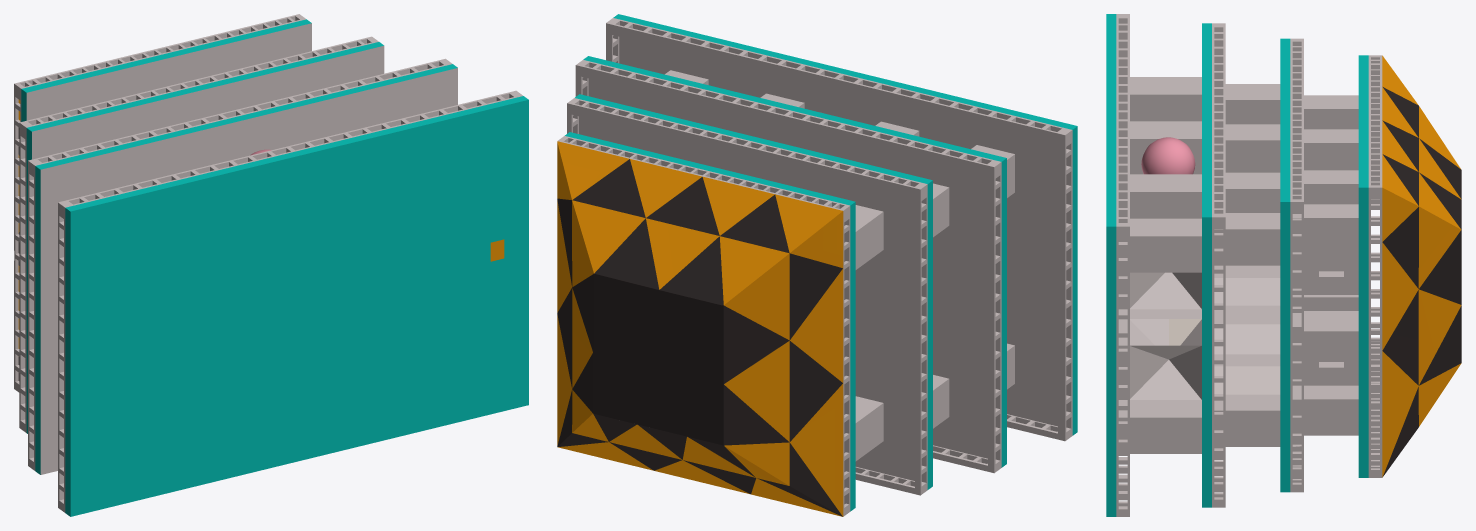
The model's file is orangeTemple.fbx.
The picture shows the model from 3 angles, left to right: view 1: azimuth 30°, elevation 25°; view 2: azimuth 150°, elevation 25°; view 3: azimuth 270°, elevation 25°; orthographic projection. The views are drawn at different scales.
Visible parts, largest first — view 1: TwentysevenThirtyone_orangeTemple; view 2: TwentysevenThirtyone_orangeTemple; view 3: TwentysevenThirtyone_orangeTemple, thirtyOne.
Boxes of the visible parts, box(x1,y1,x2,y2) form: TwentysevenThirtyone_orangeTemple: box(14, 14, 528, 516); TwentysevenThirtyone_orangeTemple: box(557, 14, 1077, 516); TwentysevenThirtyone_orangeTemple: box(1106, 14, 1461, 516); thirtyOne: box(1141, 137, 1195, 174).
Size of the model in its own units: 10.84 by 6.9 by 7.66.
